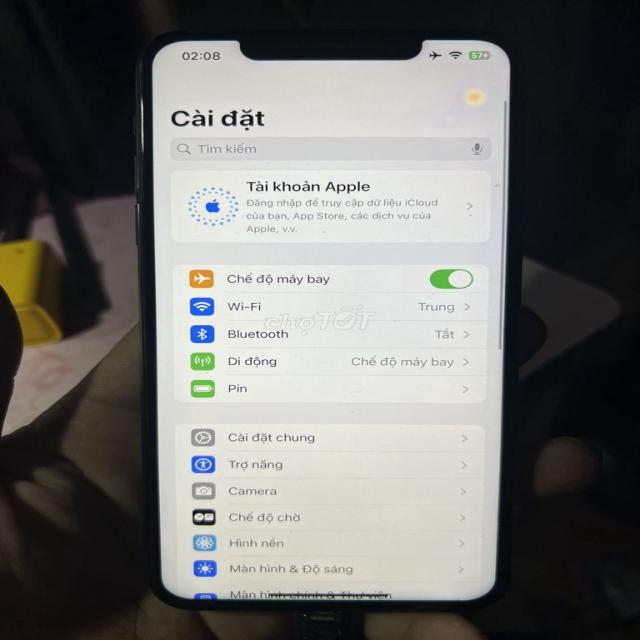scratch: (130, 85, 153, 153)
screen_defect: (463, 83, 489, 113)
